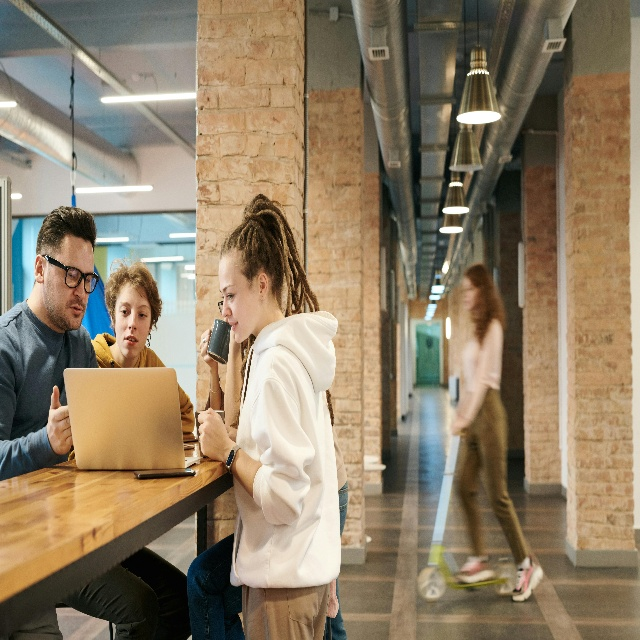Gafas: (41, 254, 100, 295), (218, 300, 224, 314)
Sin_guantes: (198, 408, 232, 462), (47, 385, 73, 455), (199, 323, 219, 371)
